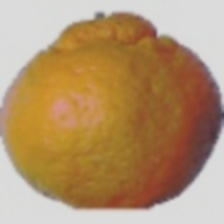tangerine: (21, 30, 186, 177)
